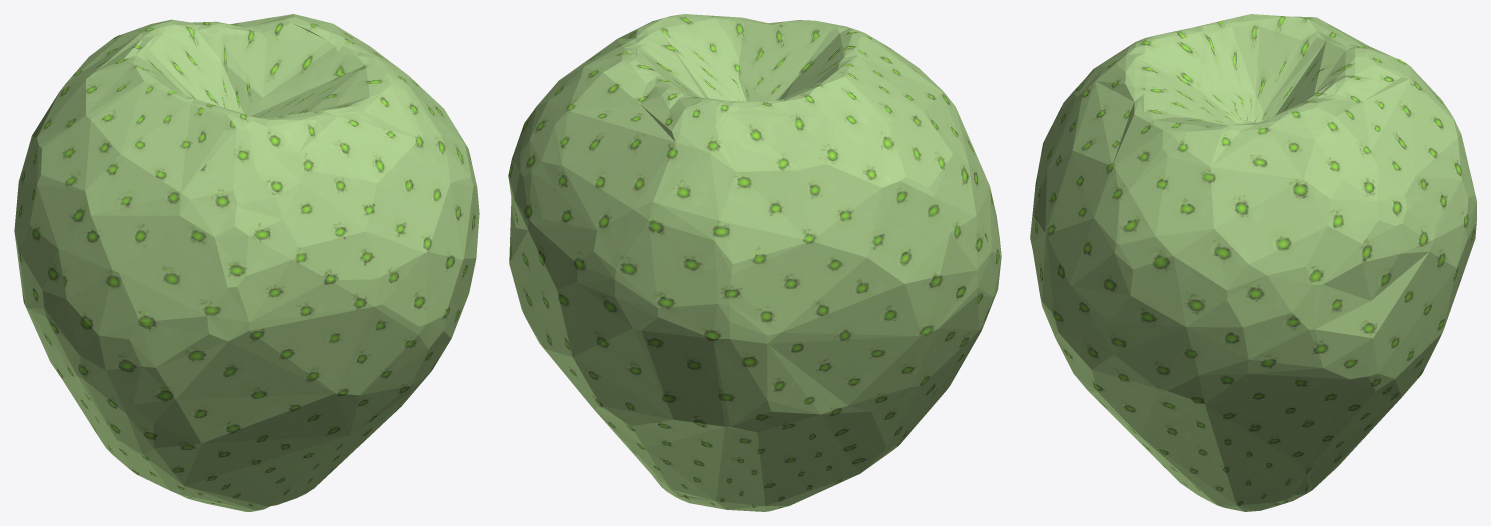
3 views of the same model, side by side, from view 1: azimuth 30°, elevation 25°; view 2: azimuth 150°, elevation 25°; view 3: azimuth 270°, elevation 25° (orthographic). The views are drawn at different scales.
Parts seen in each view (by area): view 1: _000_Meshed; view 2: _000_Meshed; view 3: _000_Meshed.
Boxes of the visible parts, bbox=[...] form: _000_Meshed: bbox=[14, 14, 479, 511]; _000_Meshed: bbox=[508, 14, 1001, 511]; _000_Meshed: bbox=[1030, 14, 1476, 511].
Size of the model in its own units: 0.1127 by 0.1067 by 0.1146.
Materials: 1 (1 with a texture image).
